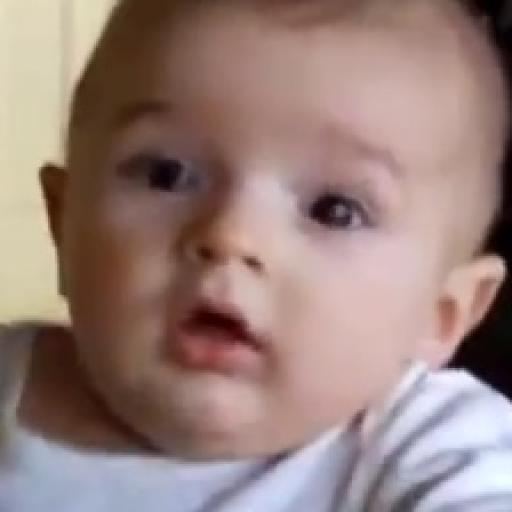Autism: (73, 30, 469, 439)
